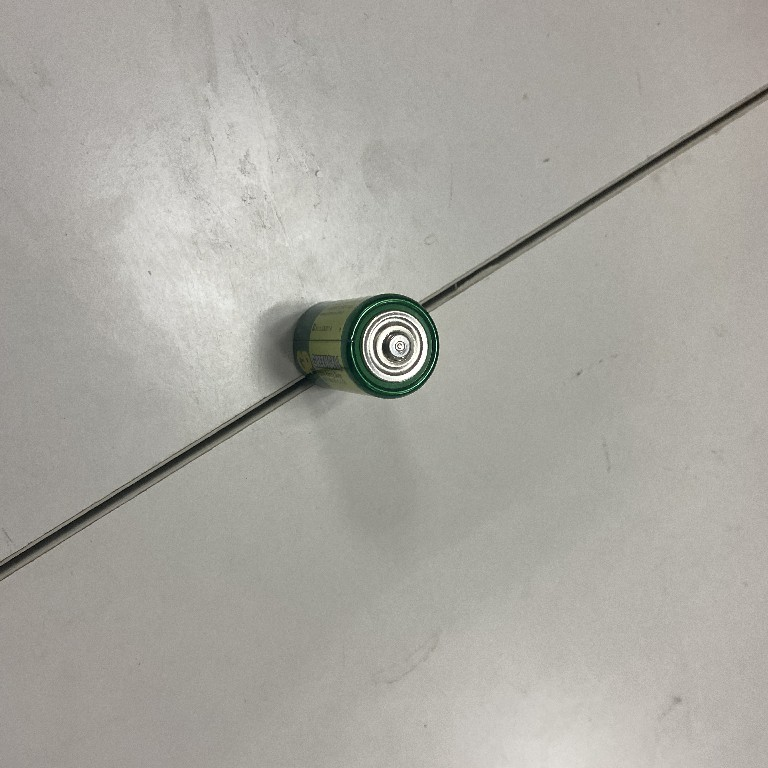charge: (290, 291, 442, 400)
